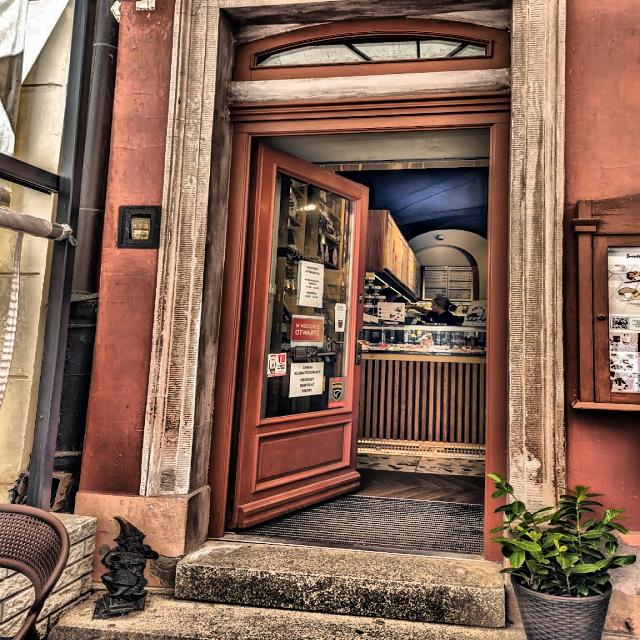Wedelek: (93, 518, 158, 619)
